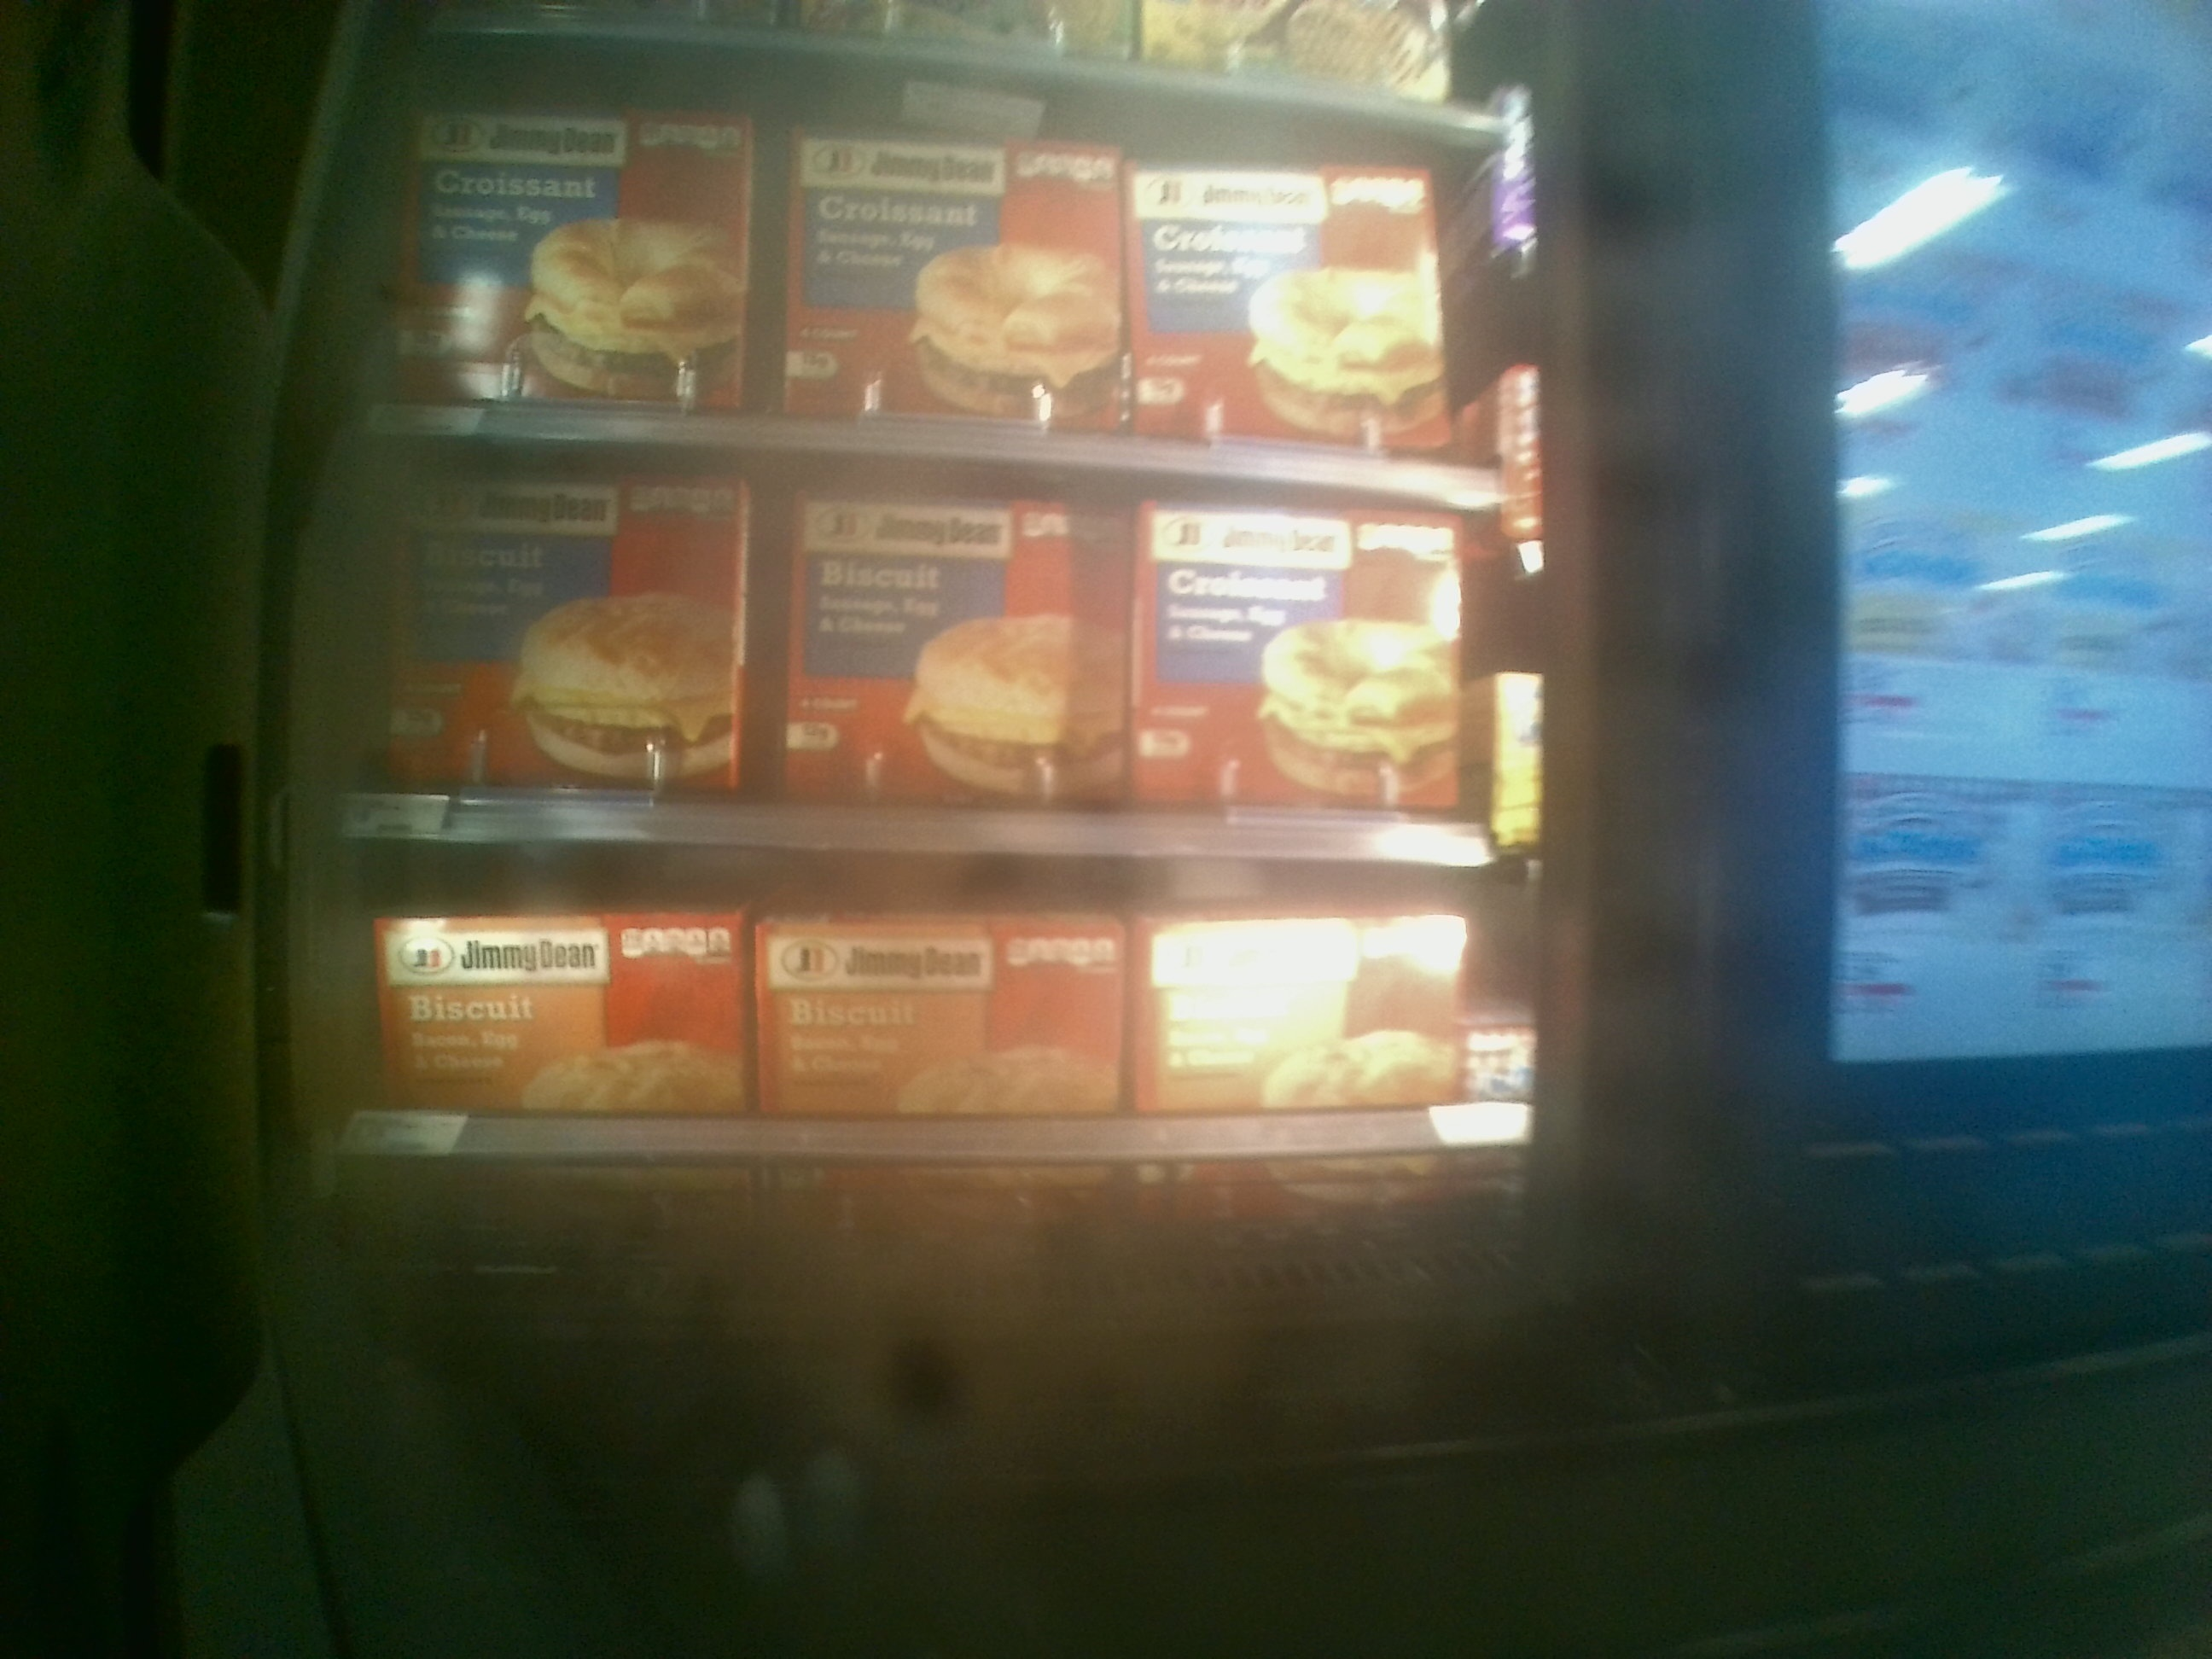shelf: (336, 847, 1538, 1324), (340, 432, 1524, 852)
